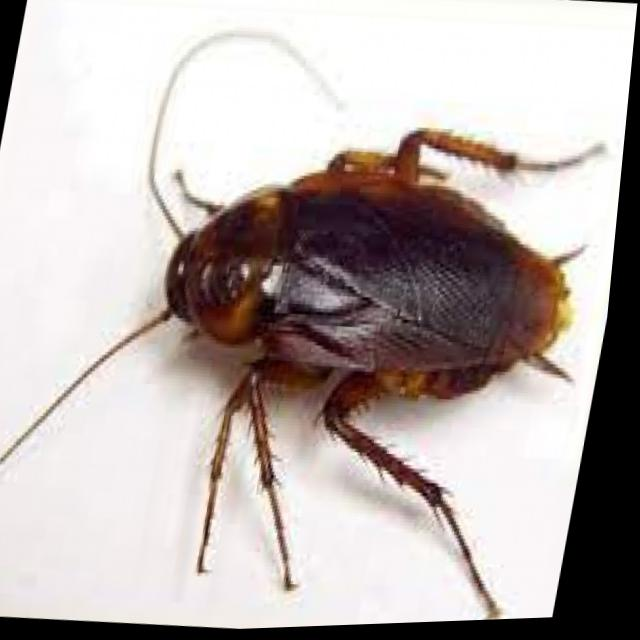Cockroach: (49, 0, 639, 637)
